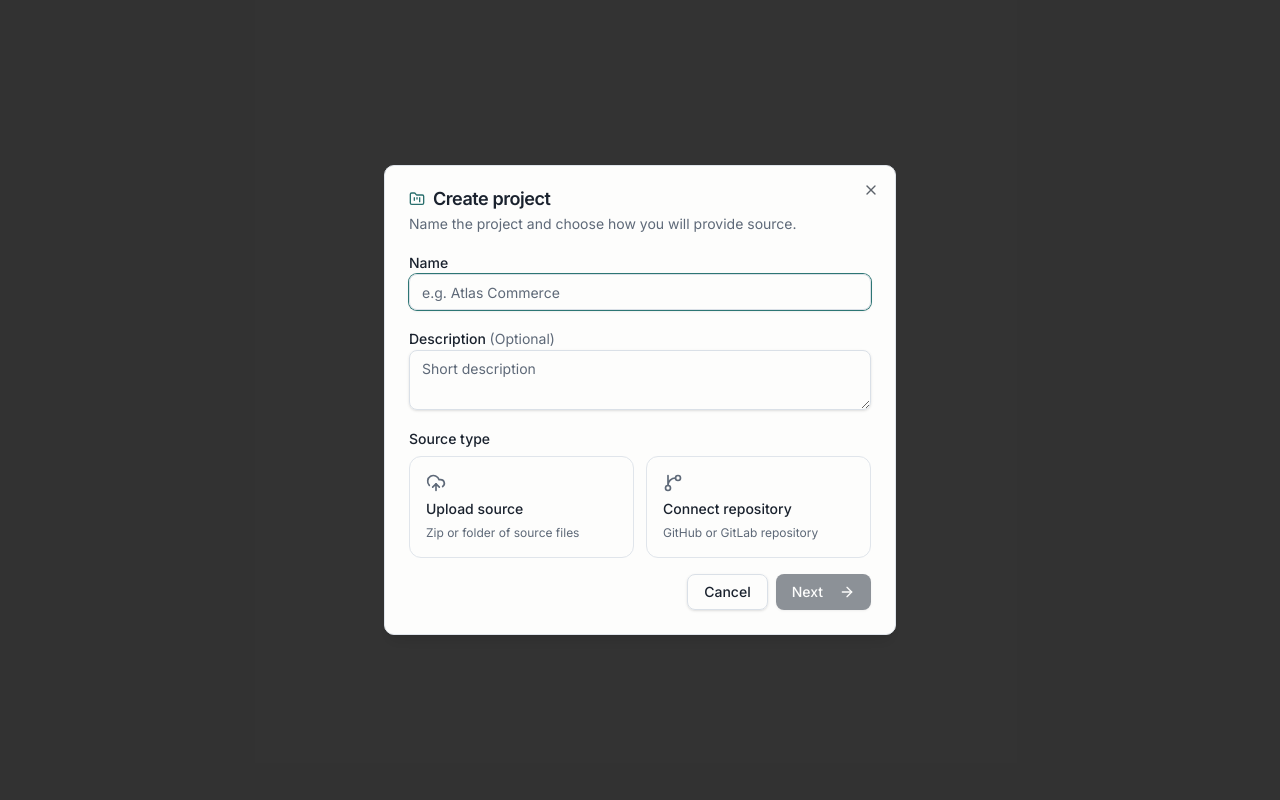
Test: CreateProjectDialog › shows correlation and retry-after on create failure
In the text box labelled "Description (Optional)": (640, 380) [409,350,871,410], type "A retail catalog"
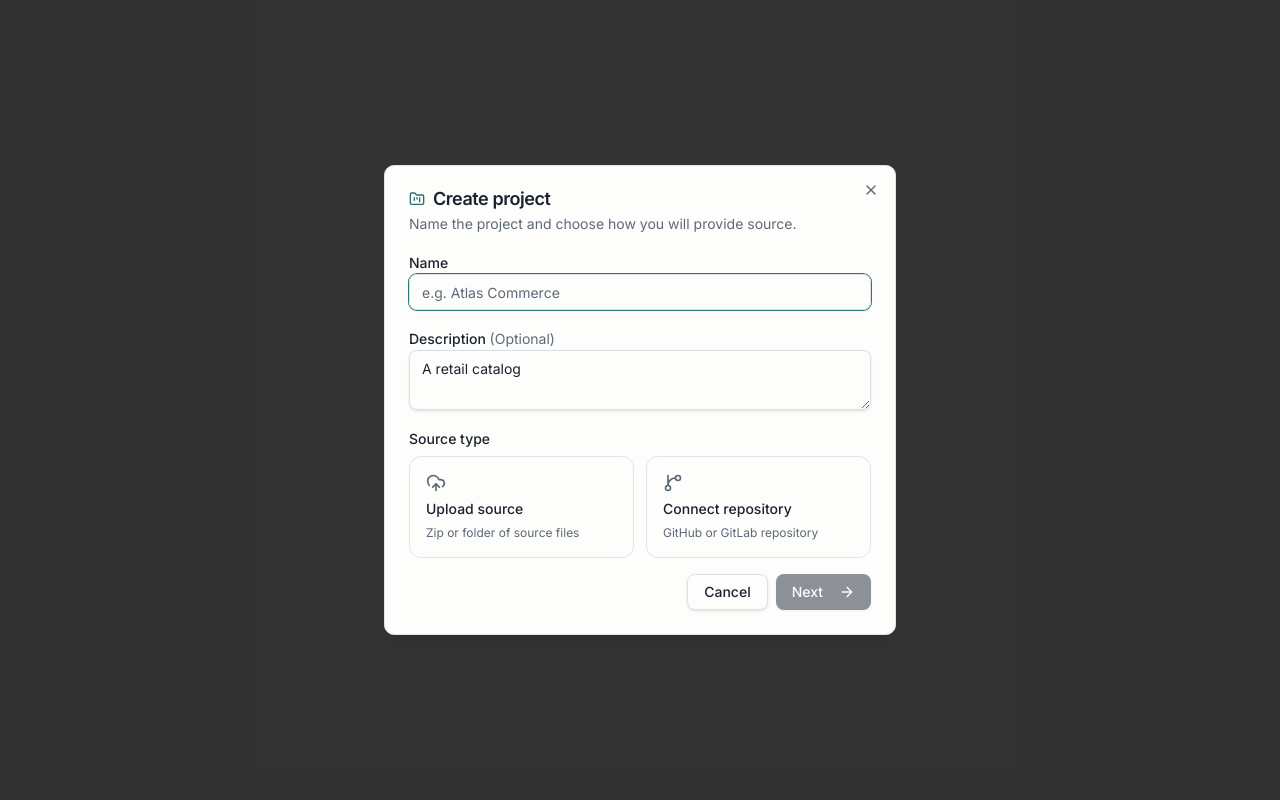
In the field labelled "Name": (640, 292) [409,274,871,310], type "Nova"
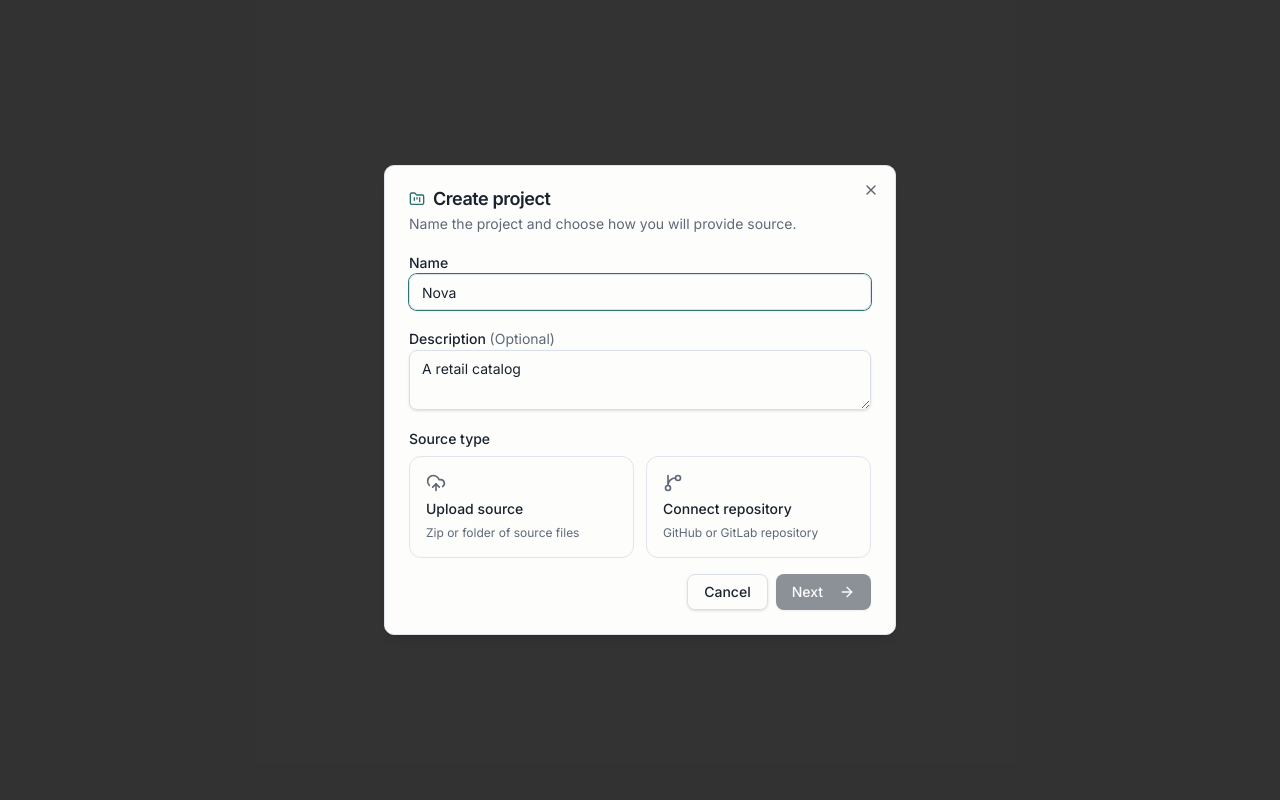
Click the text "Upload source": click(475, 509) [426,499,523,519]
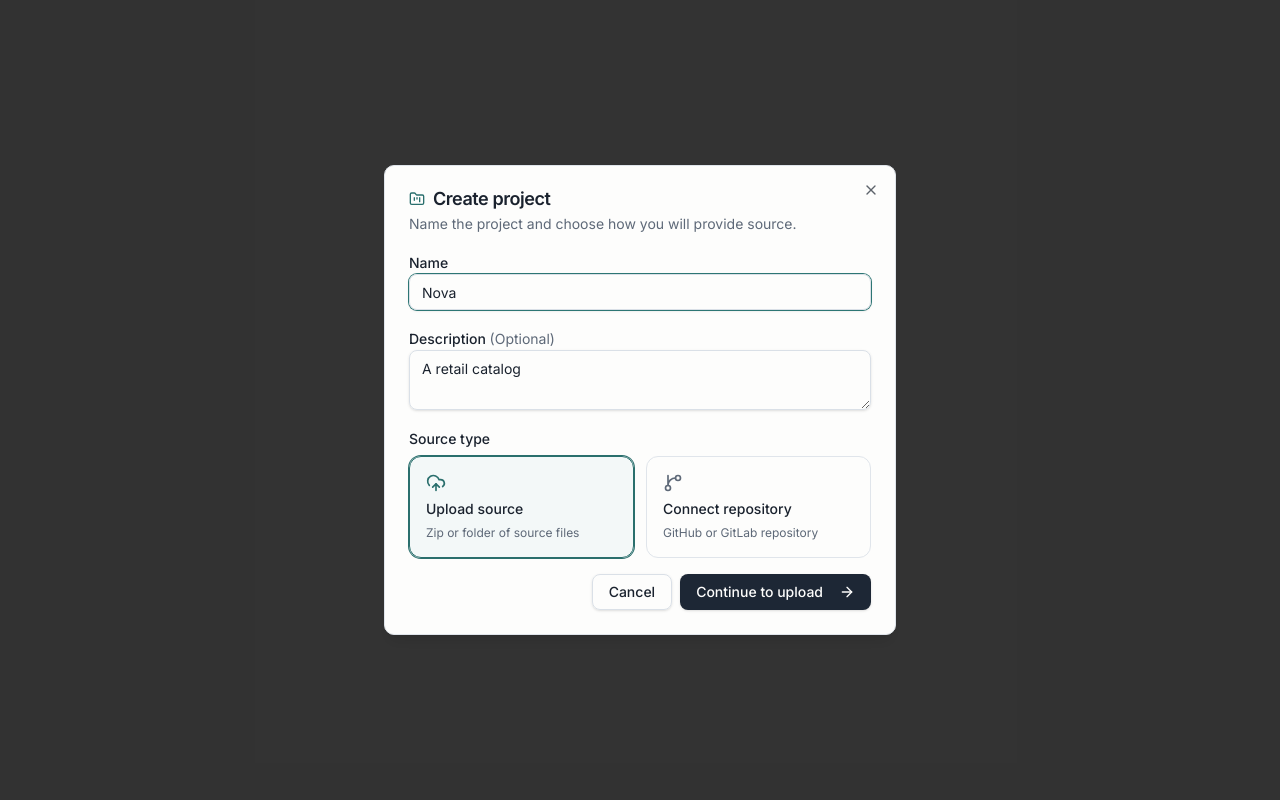
Click the button "Continue to upload": click(776, 592) [680,574,871,610]
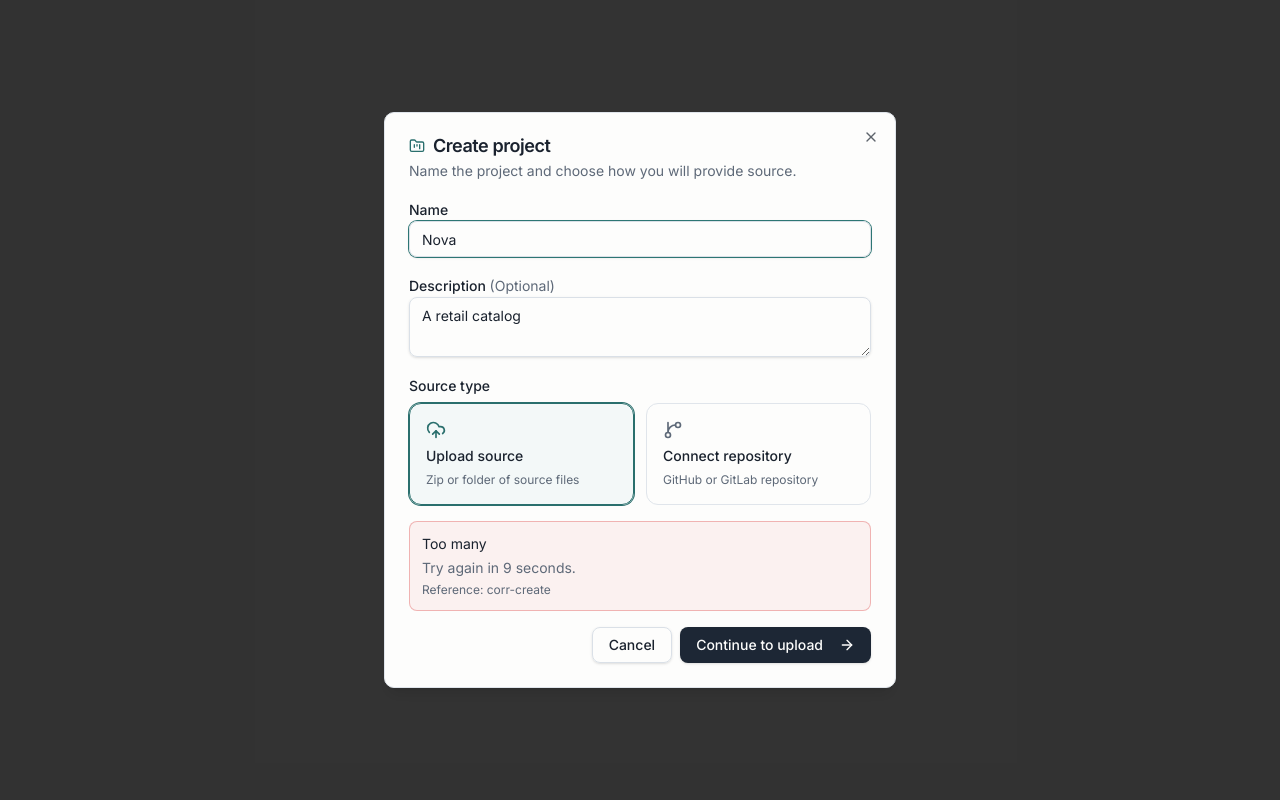
Expected: the message shows "Too many", [422,535,487,552]
Expected: the message shows "corr-create", [422,582,551,597]
Expected: the message shows "9", [422,559,576,576]
Replace the text in the field labelled "Name" with "Nova 2": (640, 239) [409,221,871,257]
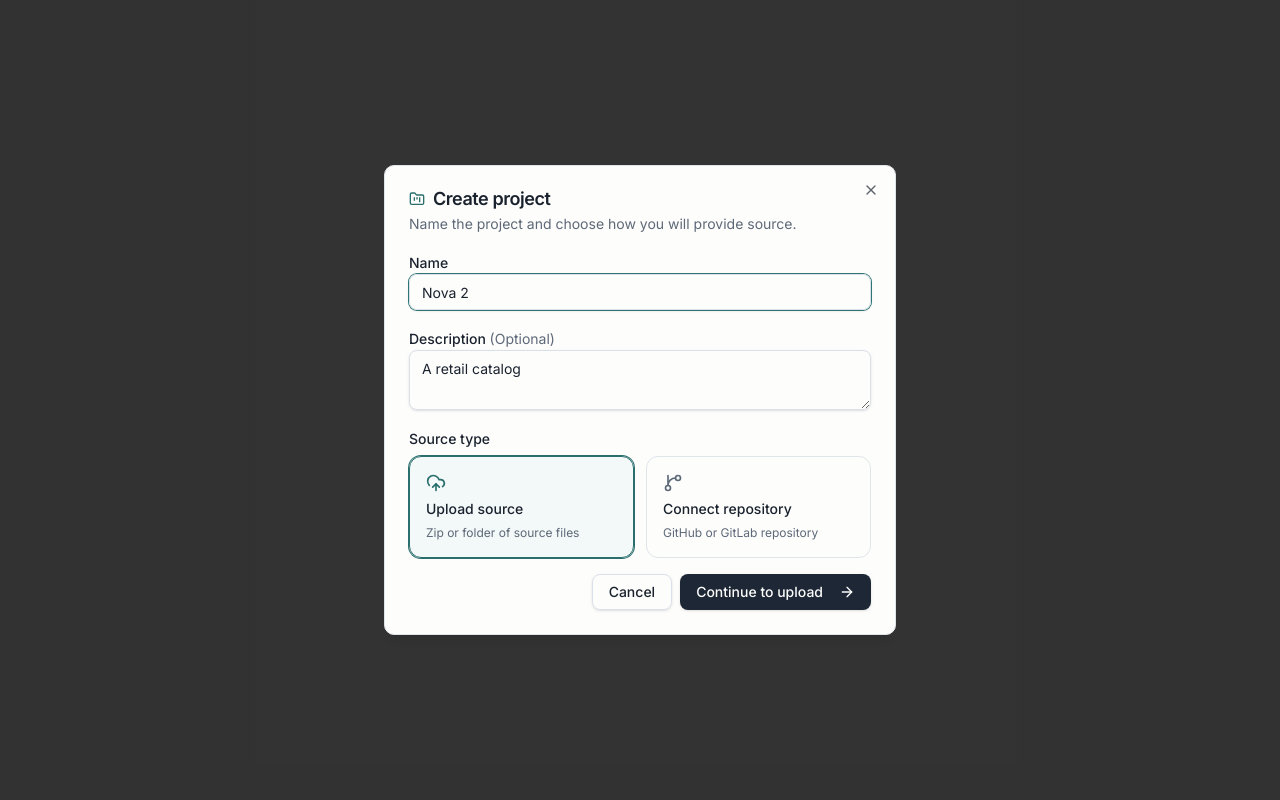
Expected: the message "Too many Try again in 9 seconds. Reference: corr-create" is gone
